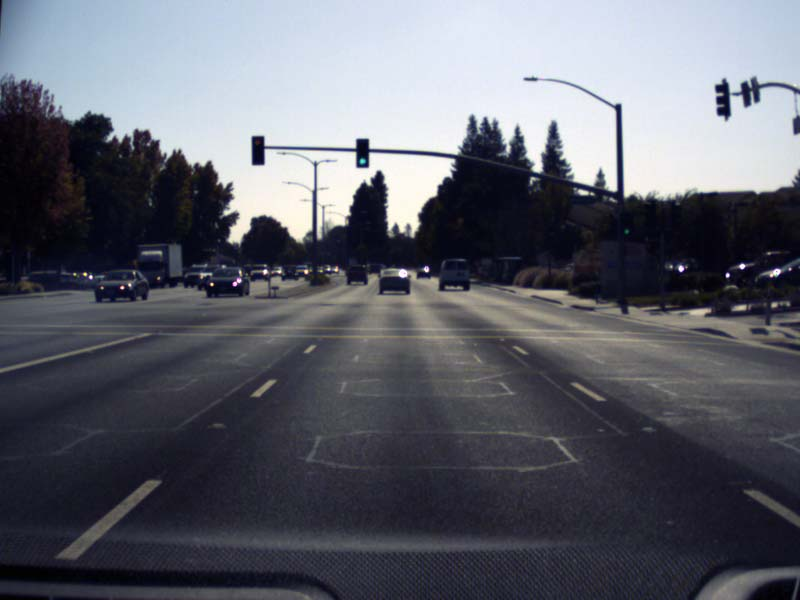Green: (356, 139, 368, 167), (621, 212, 632, 235)
Red: (252, 135, 264, 165)
